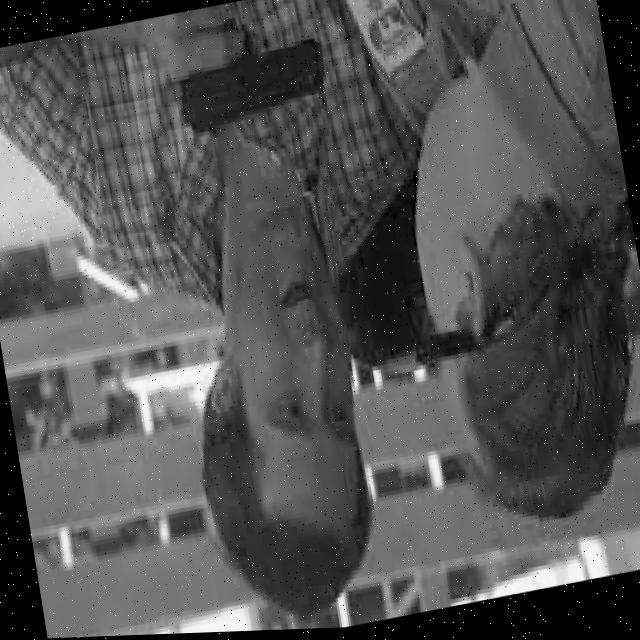pistol: (166, 1, 330, 142)
